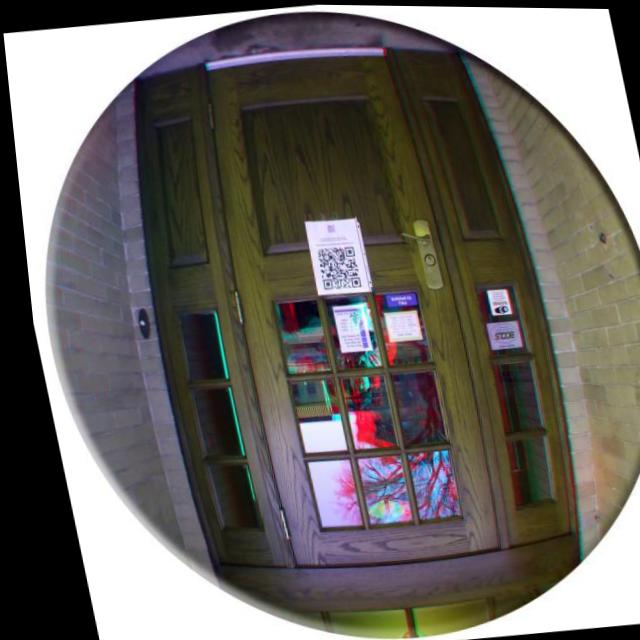qrcode: (310, 244, 355, 289)
